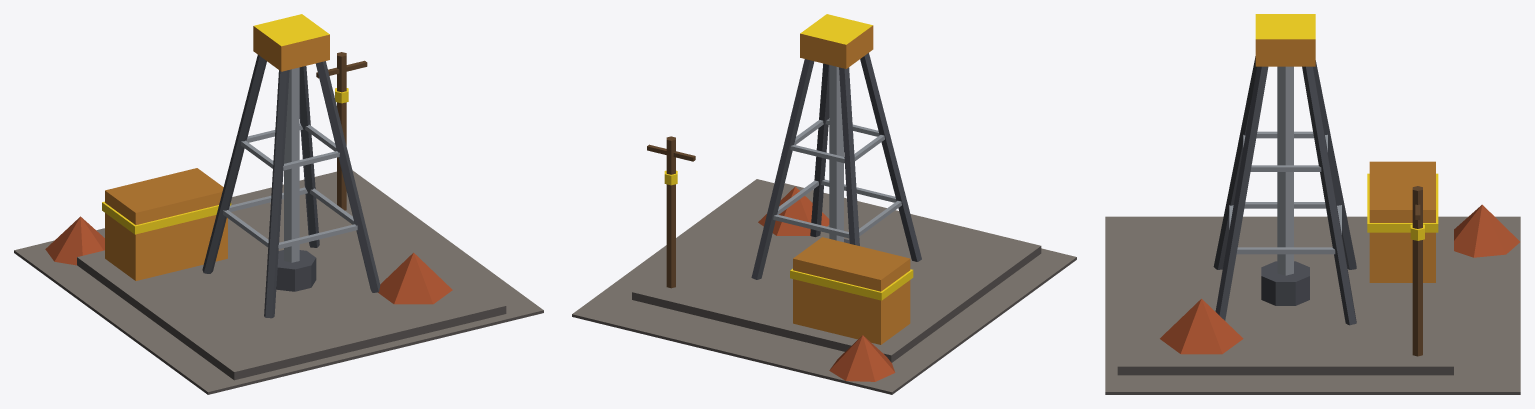
The model's file is mine_2.glb.
3 renders of one model, left to right at view 1: azimuth 30°, elevation 25°; view 2: azimuth 150°, elevation 25°; view 3: azimuth 270°, elevation 25°, orthographic. The views are drawn at different scales.
Visible parts, largest first — view 1: mine_2; view 2: mine_2; view 3: mine_2.
Boxes of the visible parts, bbox=[...] form: mine_2: bbox=[14, 14, 543, 394]; mine_2: bbox=[572, 14, 1076, 394]; mine_2: bbox=[1105, 14, 1520, 394].
Size of the model in its own units: 3.8 by 2.84 by 3.8.
